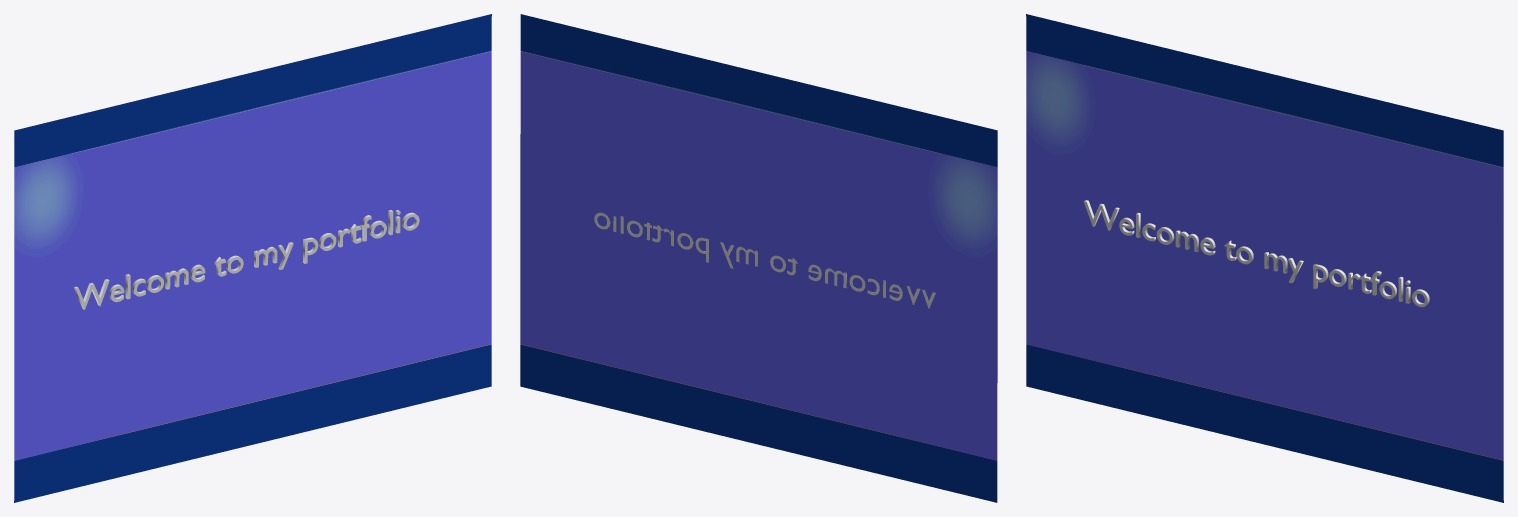
File: welcomeScrean.glb
3 renders of one model, left to right at view 1: azimuth 30°, elevation 25°; view 2: azimuth 150°, elevation 25°; view 3: azimuth 330°, elevation 25°, orthographic.
Visible parts, largest first — view 1: Plane, Text; view 2: Plane, Text; view 3: Plane, Text.
Boxes of the visible parts, box(x1,y1,x2,y2) form: Plane: box(14, 14, 491, 502); Text: box(73, 210, 419, 309); Plane: box(520, 14, 997, 502); Text: box(594, 212, 935, 308); Plane: box(1026, 14, 1503, 502); Text: box(1083, 200, 1429, 307).
Bounding box in the file's own units: 1.53 × 1.14 × 0.0117.
2 materials, 1 textured.
